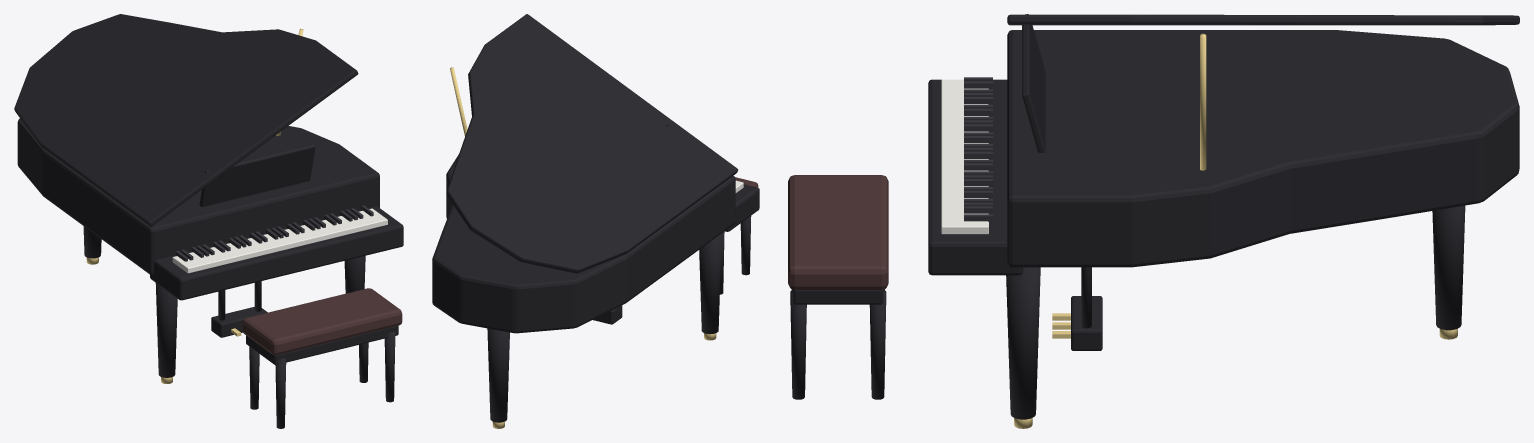
Rendered from grand_piano.glb.
3 views of the same model, side by side, from view 1: azimuth 30°, elevation 25°; view 2: azimuth 150°, elevation 25°; view 3: azimuth 270°, elevation 25° (orthographic). The views are drawn at different scales.
Parts seen in each view (by area): view 1: BodyRim; view 2: BodyRim; view 3: BodyRim.
Part boxes in pixels (left/top/right/bottom): BodyRim: left=14, top=14, right=403, bottom=428; BodyRim: left=432, top=14, right=759, bottom=428; BodyRim: left=788, top=14, right=1519, bottom=428.
Bounding box in the file's own units: 1.53 × 1.71 × 2.77.
